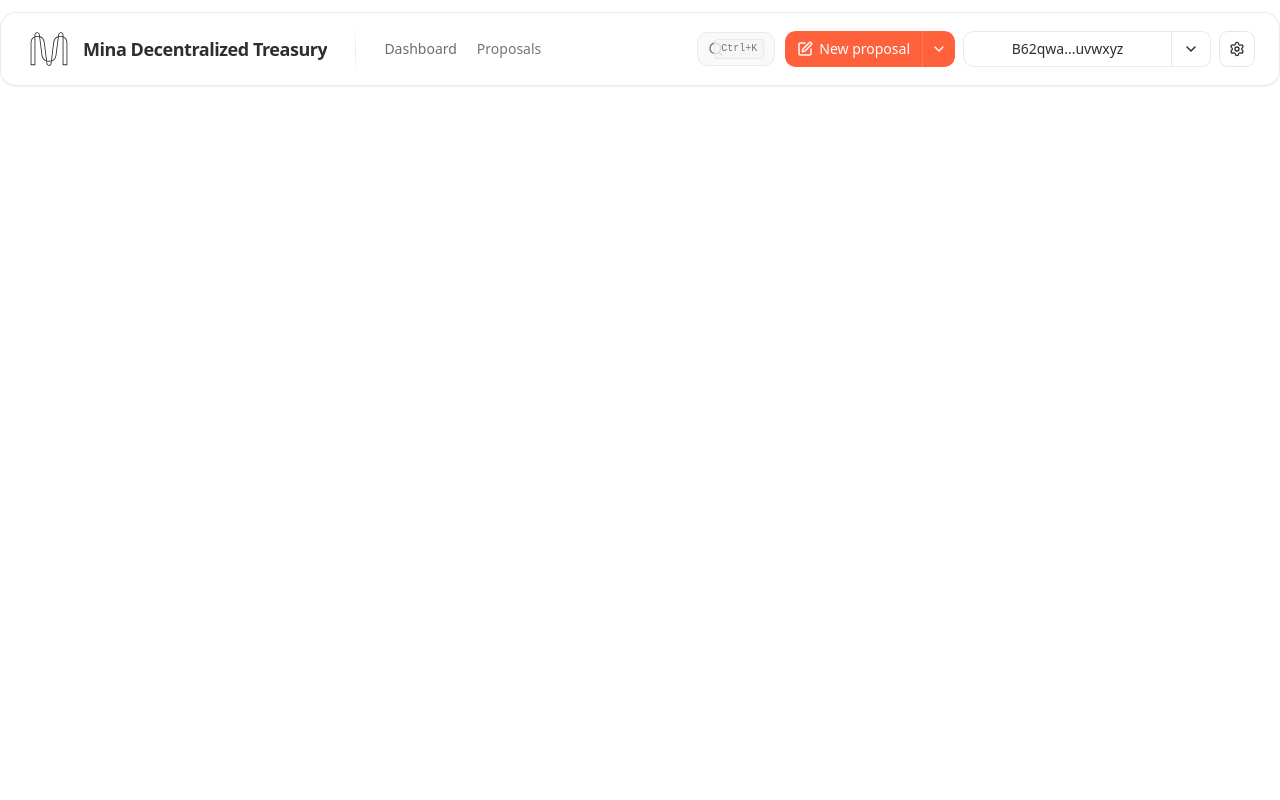
Scenario: TreasuryWalletHeader › renders loading wallet account details in wallet header
(page scrolled)
Step 1. Click the button named "Open wallet account details" → (1191, 49), box [1171, 31, 1211, 67]
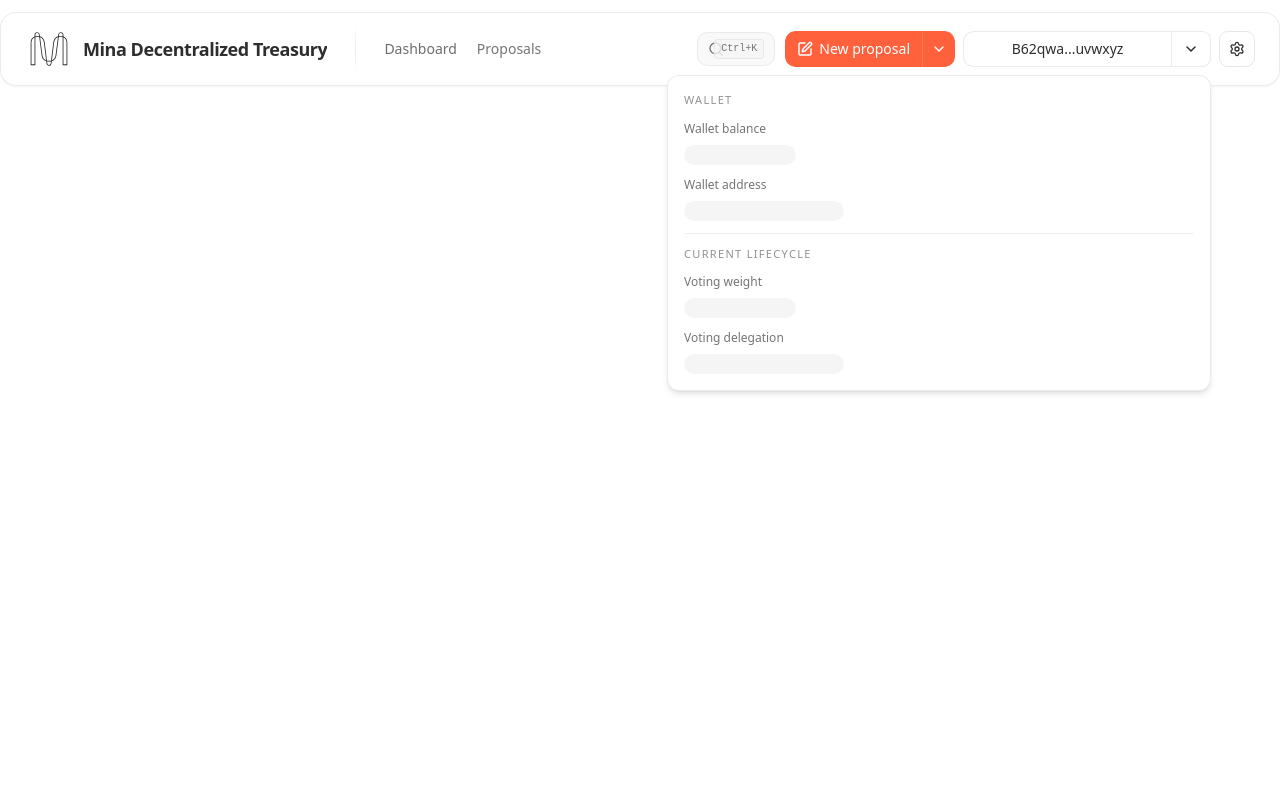
Check: the element that starts with "Wallet" is shown, box [684, 92, 1194, 374]
